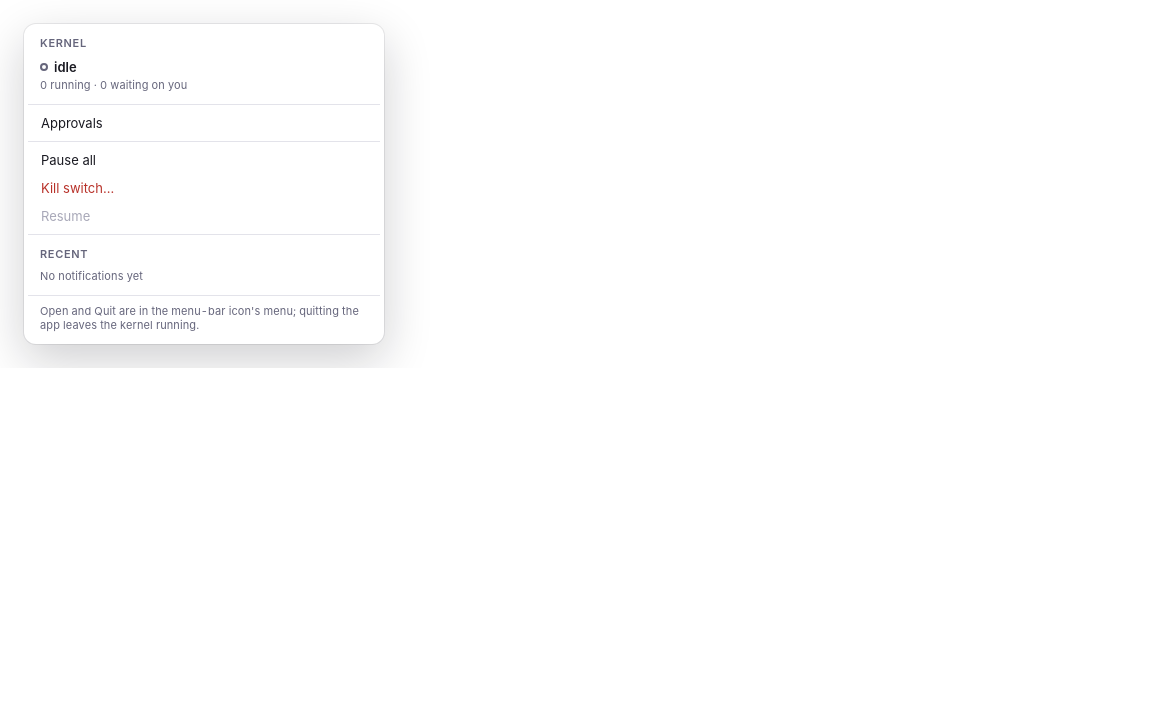
the commands › a refused action toasts why, escaped, and the state stays as read
The image size is (1152, 720).
Click the button "Pause all". click: (68, 160)
box: [28, 146, 380, 174]
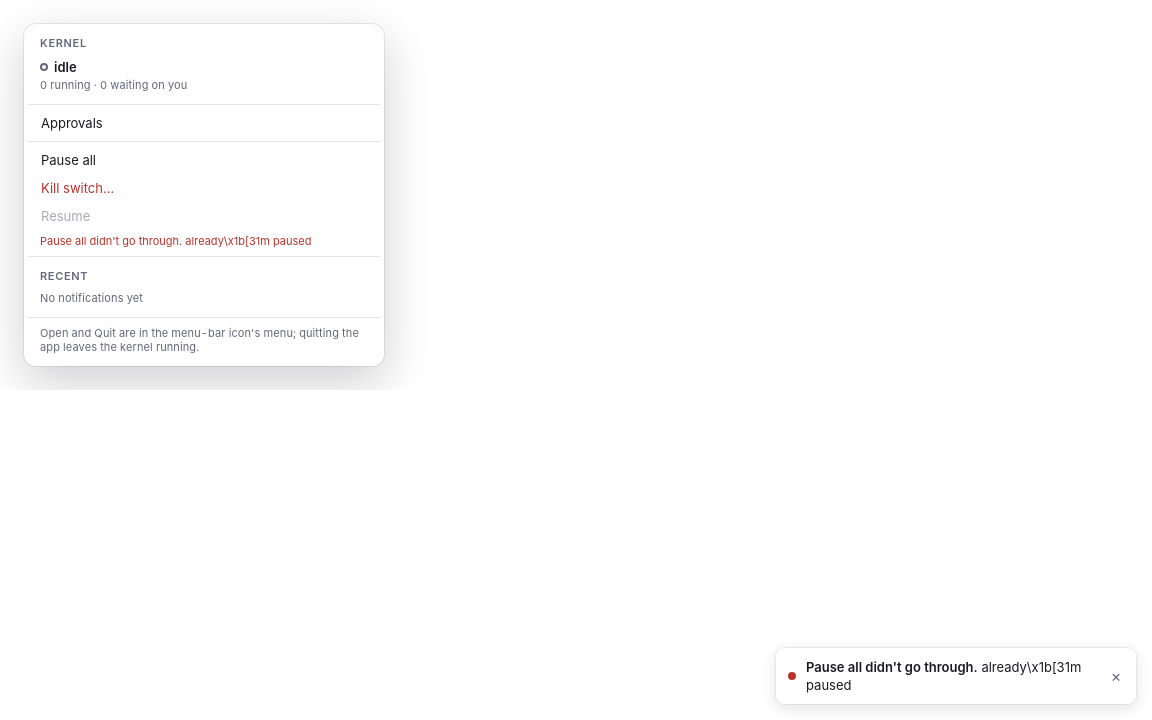
Check: the text "idle" is shown, box [54, 58, 77, 76]
Check: the message "Pause all didn't go through. already\\x1b[31m paused ×" is shown, box [776, 648, 1136, 704]
Check: the message "Pause all didn't go through. already\\x1b[31m paused ×" shows "already\\x1b[31m paused", box [806, 659, 1081, 693]
